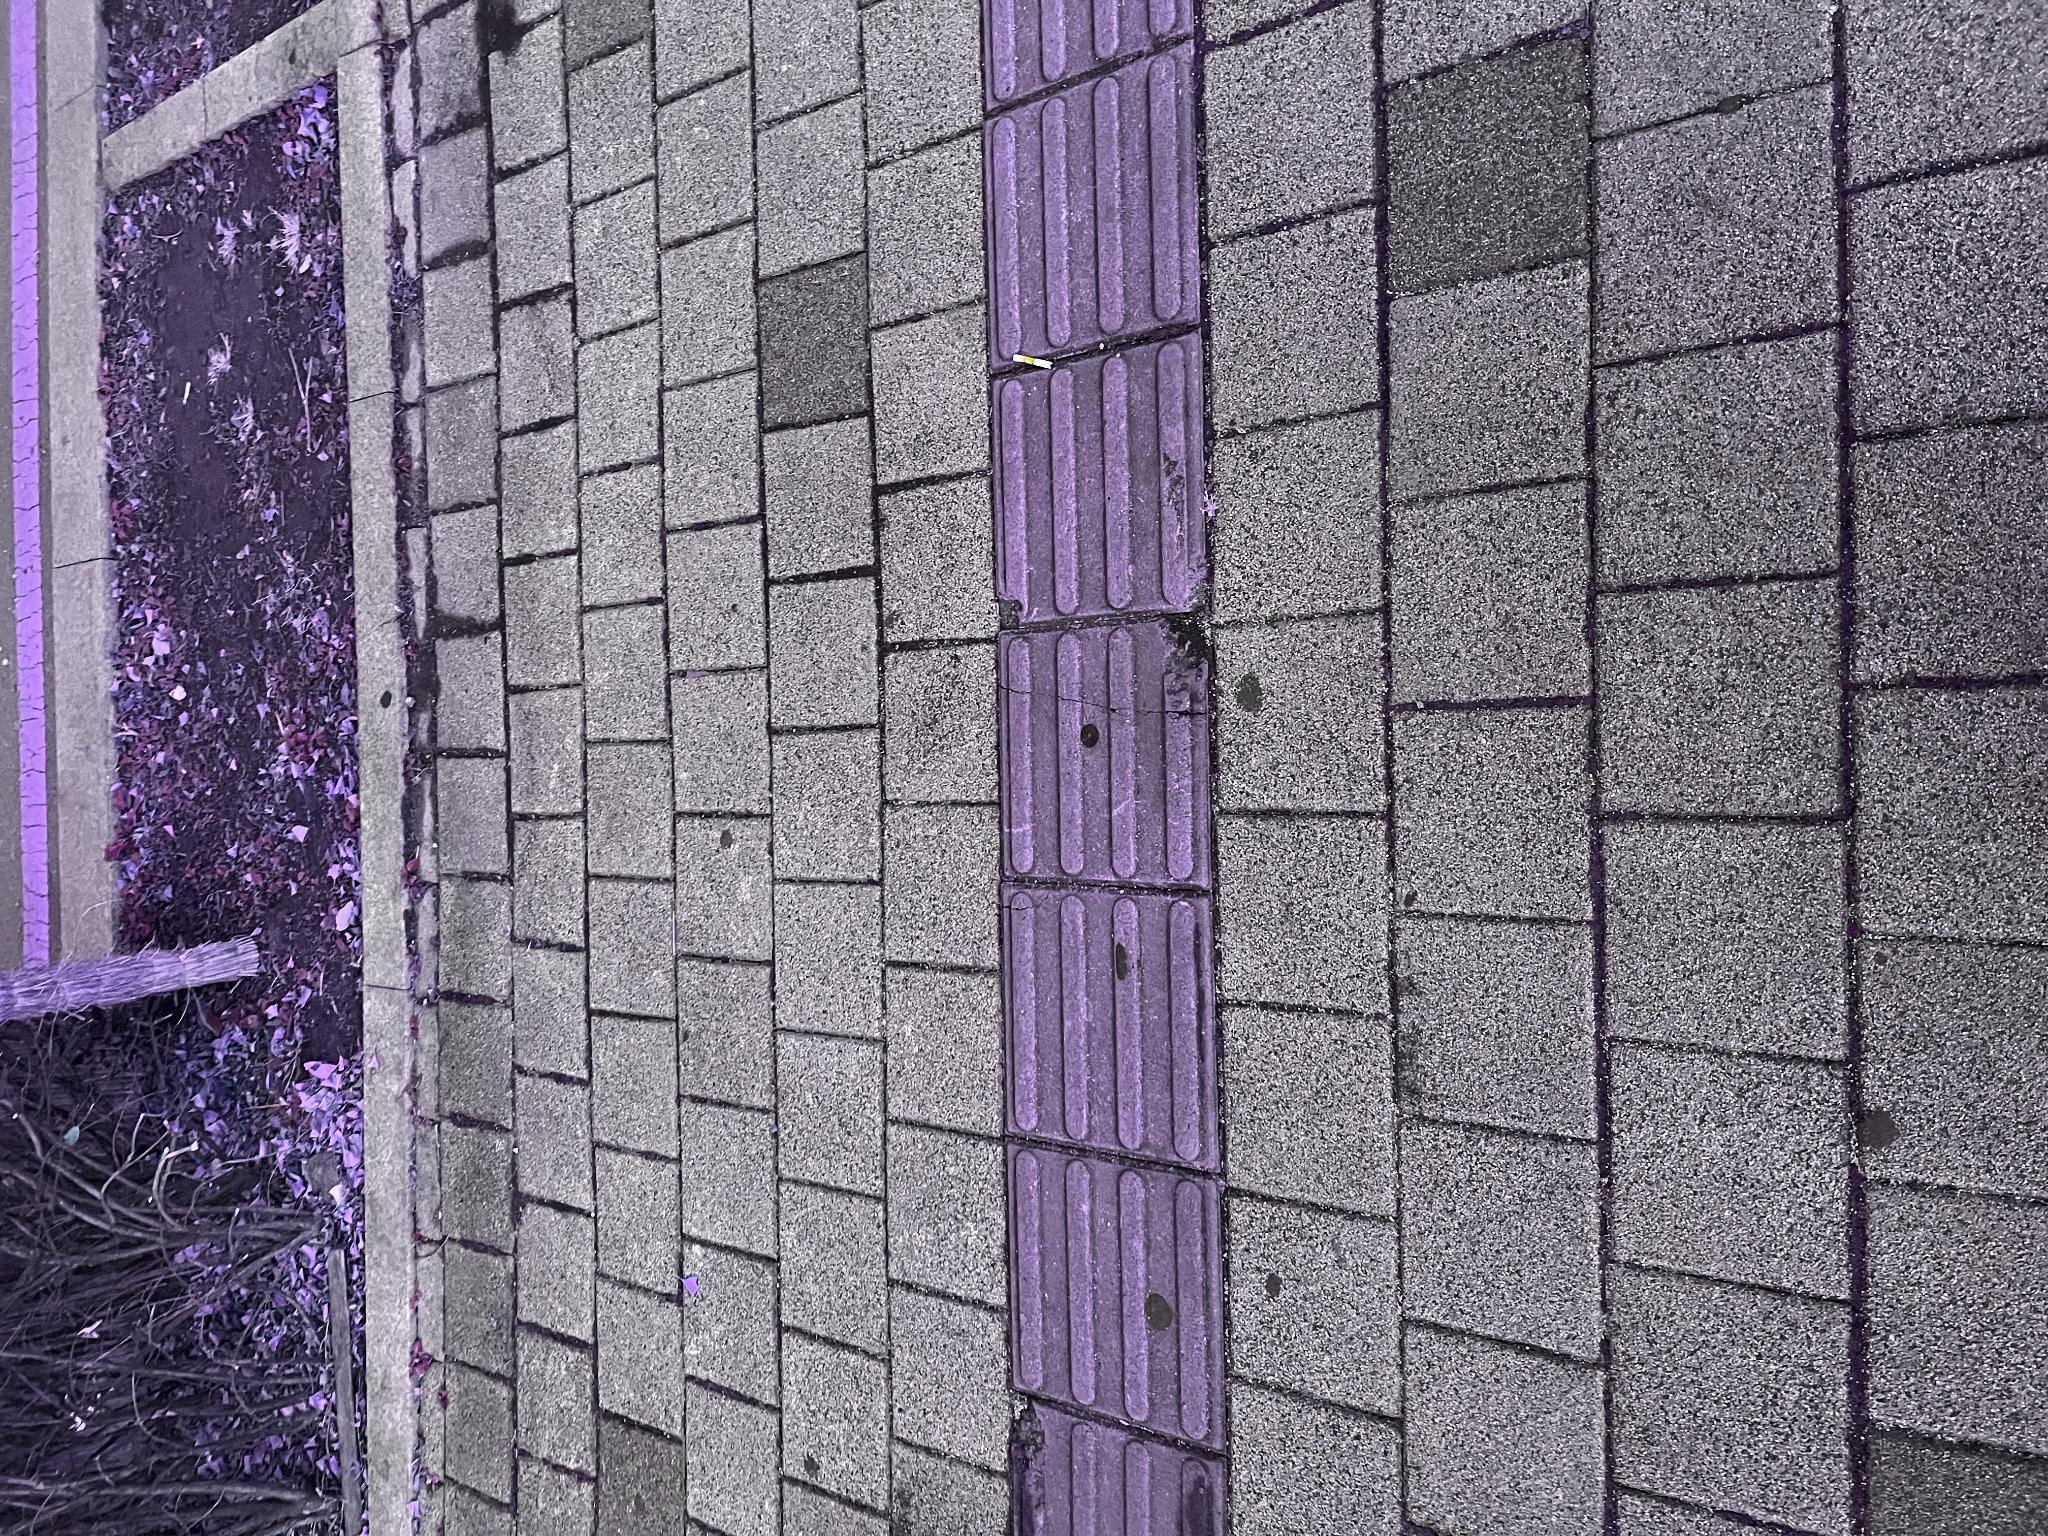Straight block broken: (910, 992, 1205, 1208), (651, 999, 921, 1210)
Straight block normal: (1169, 984, 1493, 1196), (85, 1007, 395, 1223), (369, 1002, 650, 1217)
